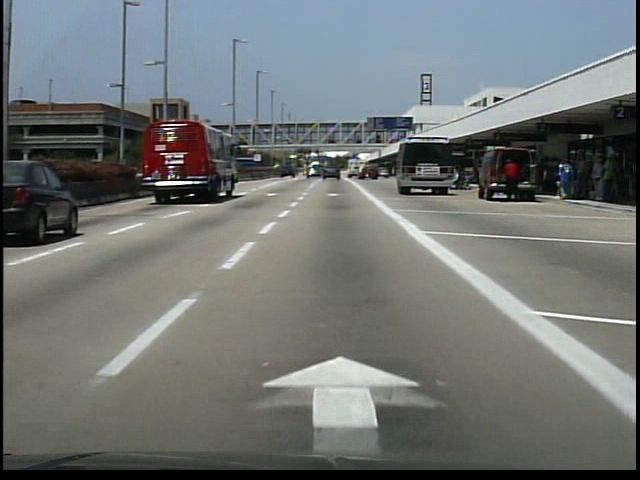person: (502, 156, 522, 207), (448, 168, 470, 194)
